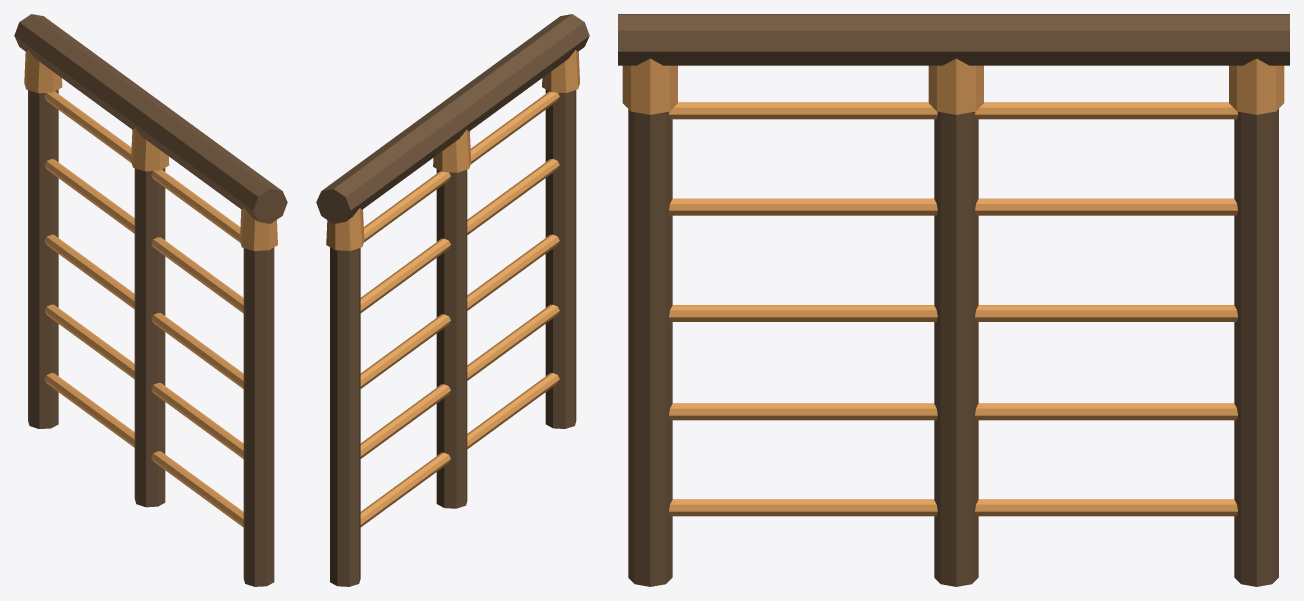
File: Fence.fbx
3 views of the same model, side by side, from view 1: azimuth 30°, elevation 25°; view 2: azimuth 150°, elevation 25°; view 3: azimuth 270°, elevation 25° (orthographic). The views are drawn at different scales.
Parts seen in each view (by area): view 1: Fence; view 2: Fence; view 3: Fence.
Boxes of the visible parts, x1=… form: Fence: x1=14, y1=14, x2=287, y2=586; Fence: x1=316, y1=14, x2=589, y2=586; Fence: x1=618, y1=14, x2=1289, y2=586.
Bounding box in the file's own units: 9.57 × 106 × 115.
